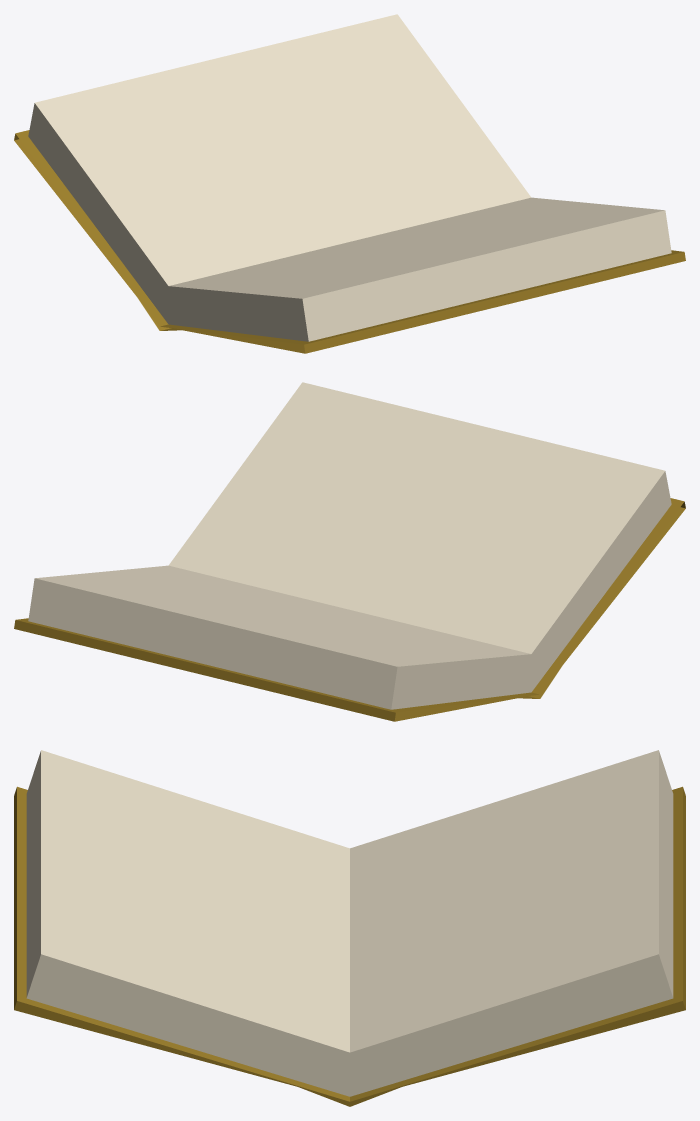
Rendered from Spellbook open-samuelgragg.fbx.
3 renders of one model, top to bottom at view 1: azimuth 30°, elevation 25°; view 2: azimuth 150°, elevation 25°; view 3: azimuth 270°, elevation 25°, orthographic. The views are drawn at different scales.
Parts seen in each view (by area): view 1: Cube.001; view 2: Cube.001; view 3: Cube.001.
Part boxes in pixels (x1,y1,x2,y2): Cube.001: (14, 14, 685, 353); Cube.001: (14, 382, 685, 721); Cube.001: (14, 750, 685, 1106).
Bounding box in the file's own units: 210 × 67.49 × 278.
